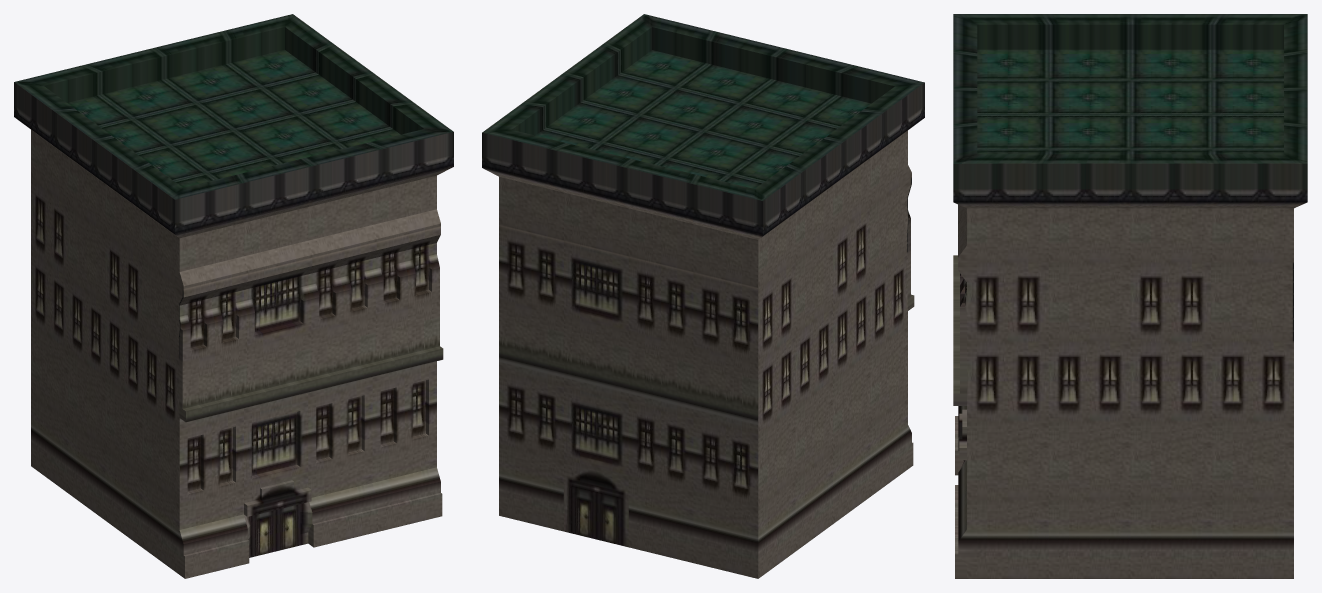
Rendered from outland_building.fbx.
The picture shows the model from 3 angles, left to right: view 1: azimuth 30°, elevation 25°; view 2: azimuth 150°, elevation 25°; view 3: azimuth 270°, elevation 25°; orthographic projection. The views are drawn at different scales.
Visible parts, largest first — view 1: Cube; view 2: Cube; view 3: Cube.
Part boxes in pixels (x1=…): Cube: x1=14, y1=14, x2=453, y2=578; Cube: x1=482, y1=14, x2=924, y2=578; Cube: x1=953, y1=14, x2=1307, y2=578.
Size of the model in its own units: 3251 by 4259 by 3252.
1 material, 1 textured.
